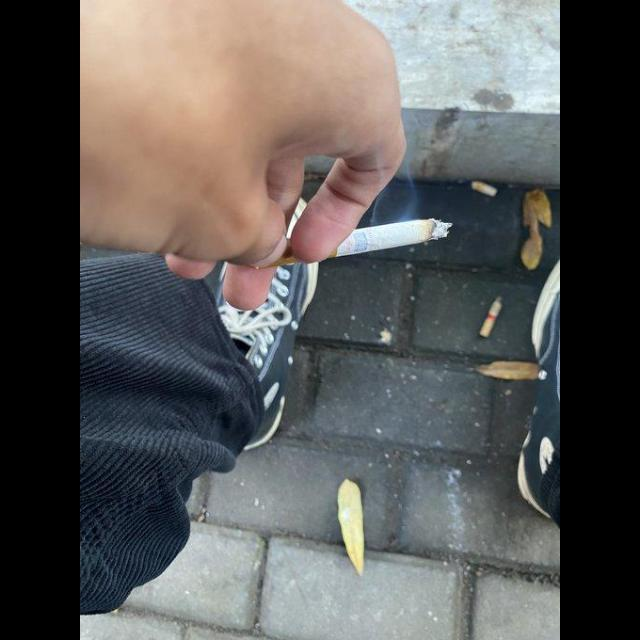rokok: (266, 204, 452, 262)
